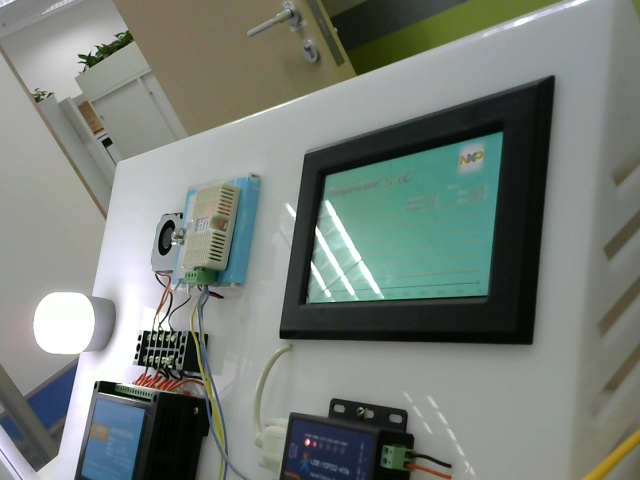termperature: (187, 184, 233, 276)
